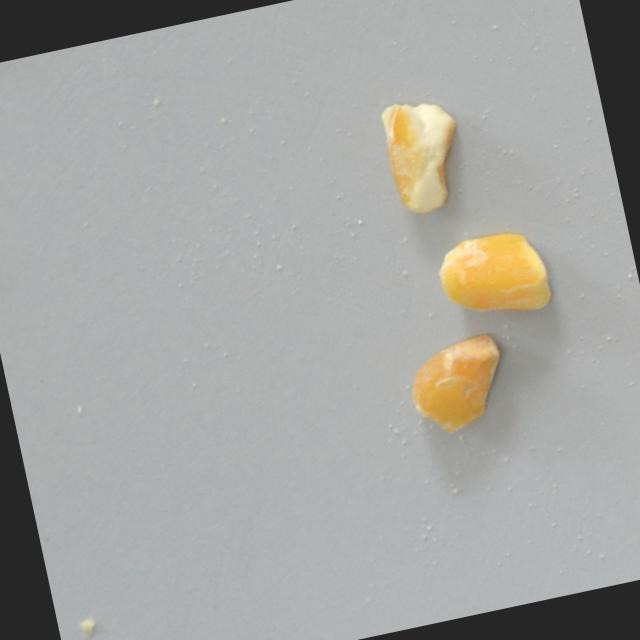pelicula: (429, 224, 555, 328), (402, 330, 514, 443), (378, 92, 473, 219)
